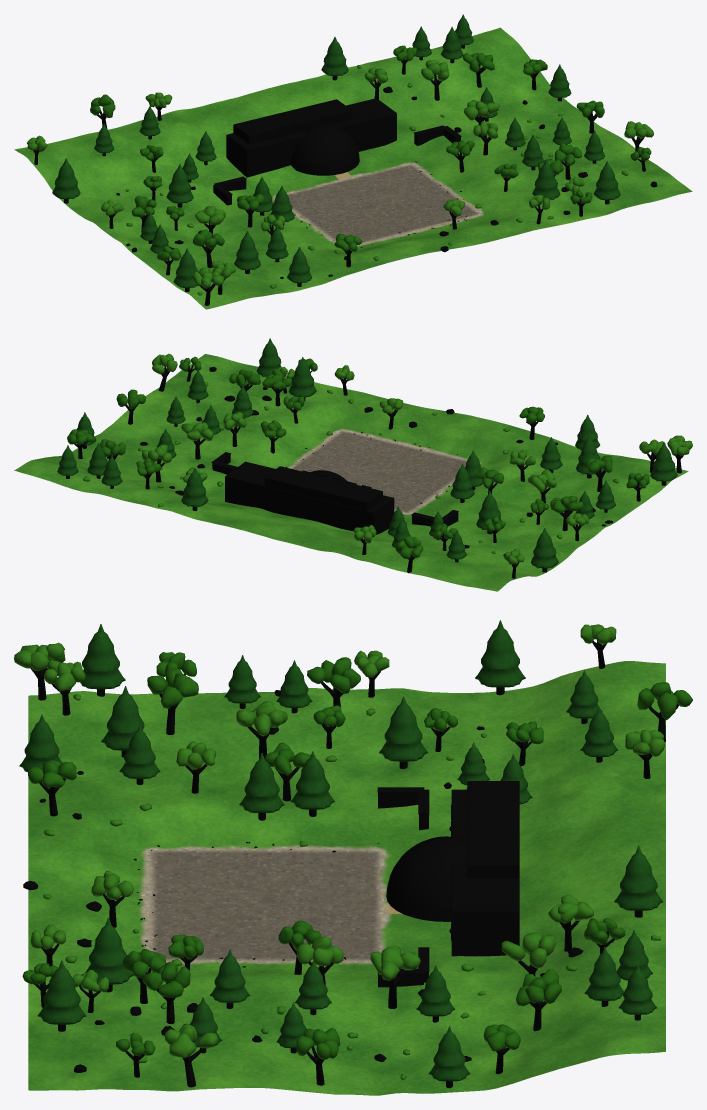
Rendered from surroundings_13x11.glb.
3 renders of one model, top to bottom at view 1: azimuth 30°, elevation 25°; view 2: azimuth 150°, elevation 25°; view 3: azimuth 270°, elevation 25°, orthographic. The views are drawn at different scales.
Visible parts, largest first — view 1: ground, props; view 2: ground, props; view 3: ground, props.
Part boxes in pixels (x1=…): ground: x1=14, y1=27, x2=692, y2=309; props: x1=27, y1=14, x2=657, y2=305; ground: x1=14, y1=354, x2=688, y2=591; props: x1=57, y1=338, x2=692, y2=578; ground: x1=28, y1=661, x2=665, y2=1095; props: x1=14, y1=620, x2=692, y2=1088.
Size of the model in its own units: 58.77 by 7.91 by 41.53.
Materials: 3 (3 with a texture image).
